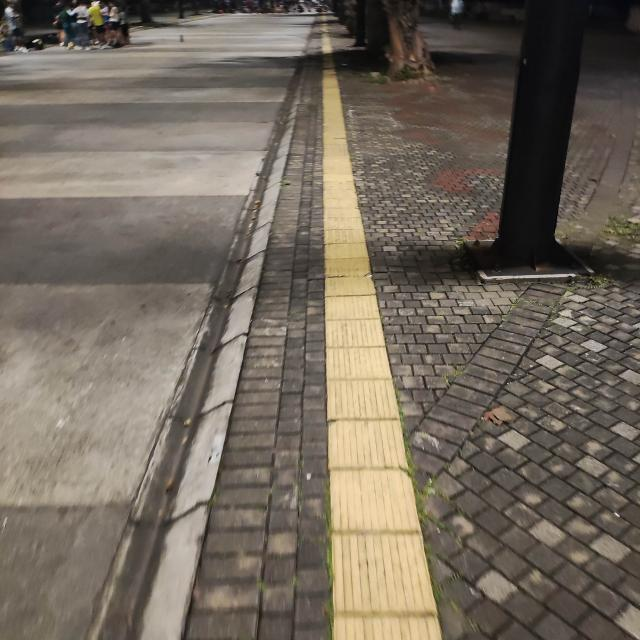lurus: (302, 149, 426, 640)
